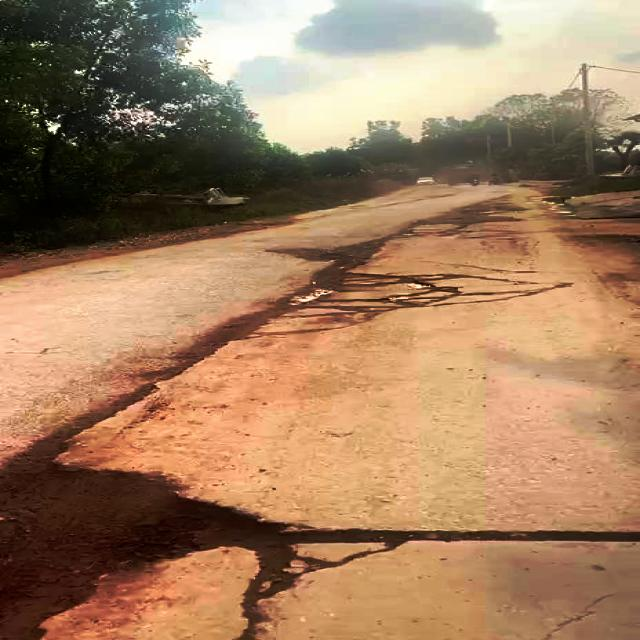pothole: (0, 448, 354, 639), (286, 270, 462, 316)
